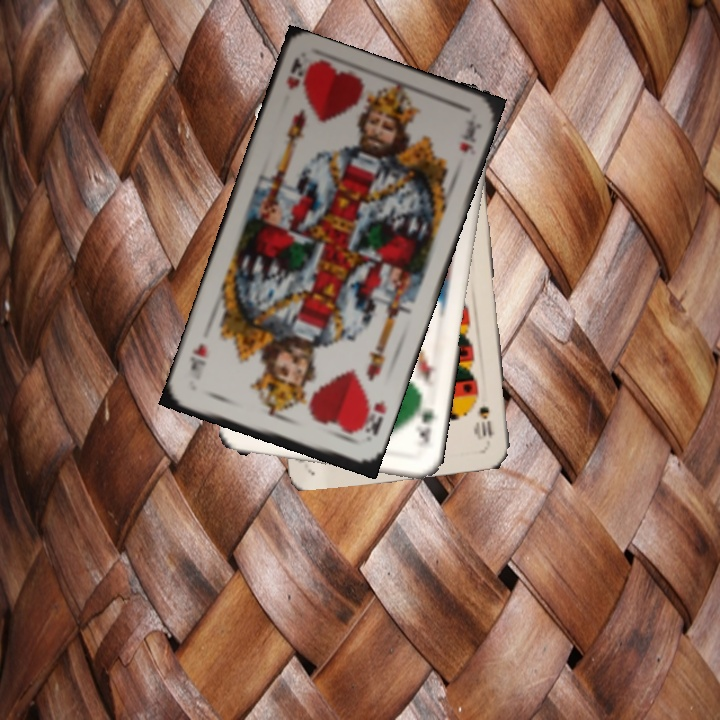GK: (412, 396, 438, 450)
HK: (353, 395, 389, 438), (282, 54, 313, 92)
S10: (475, 402, 496, 439)
